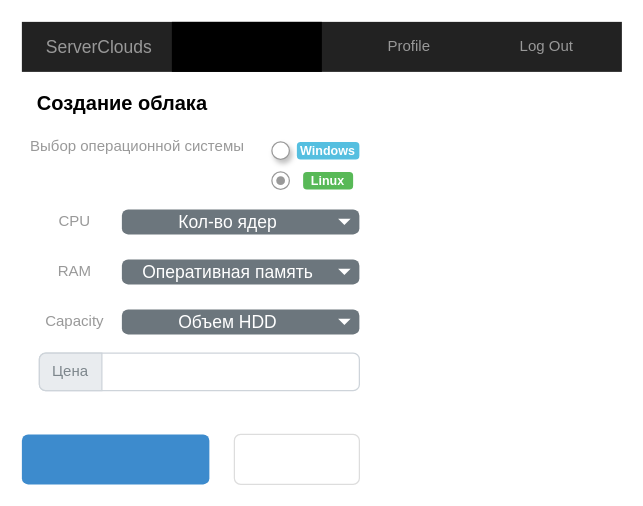
This 643x506 diagram has some shape labels left out. Each missing label, with the centre of its shape:
"Create" goes at point 246,46.
"Отменить" goes at point 296,458.
"Создать облако" goes at point 115,459.
